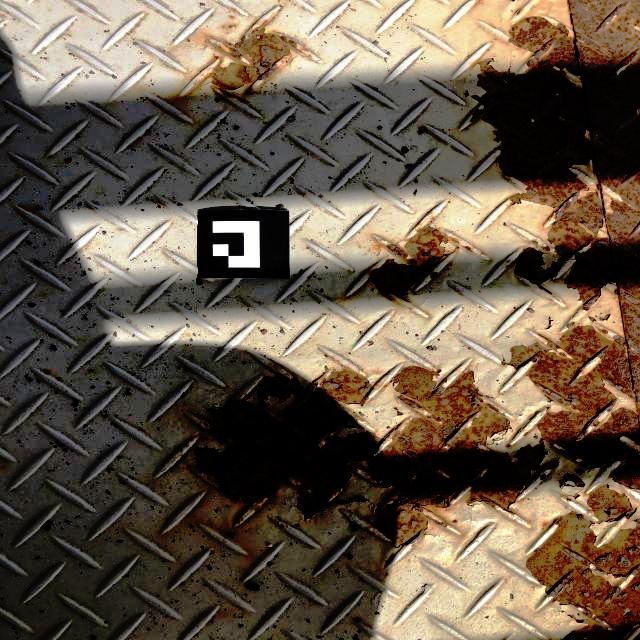Corrosion: (190, 0, 640, 640), (366, 209, 478, 303), (212, 24, 301, 98)
